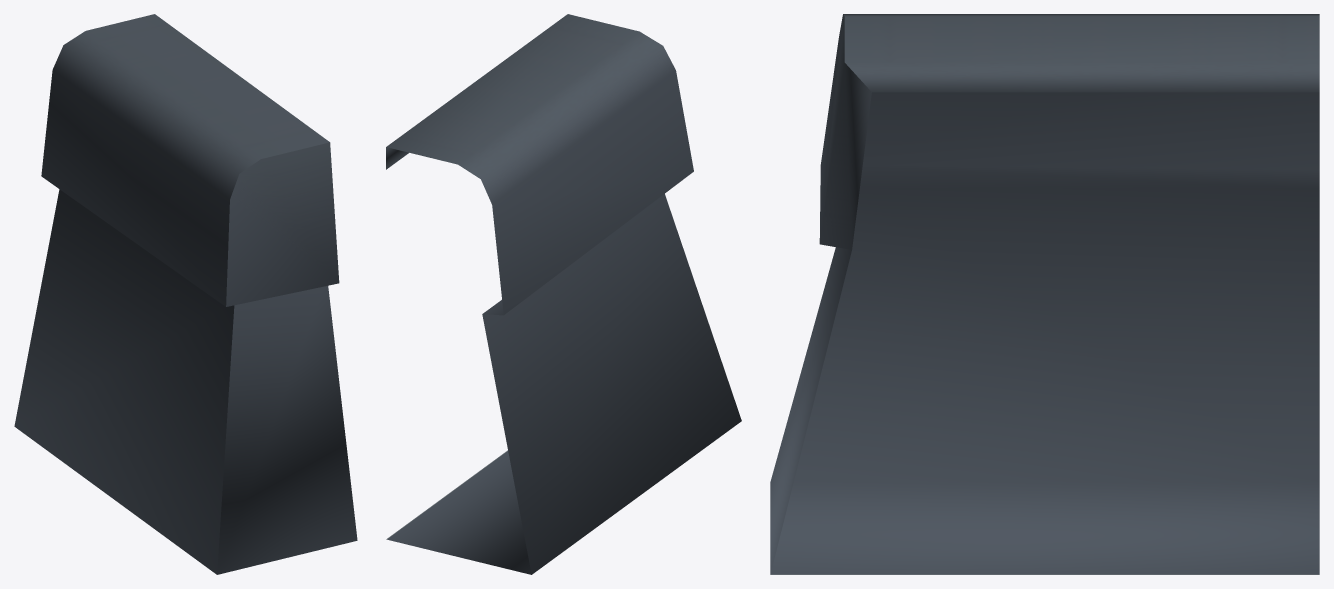
File: Wall_Endcap.fbx
3 views of the same model, side by side, from view 1: azimuth 30°, elevation 25°; view 2: azimuth 150°, elevation 25°; view 3: azimuth 270°, elevation 25° (orthographic). The views are drawn at different scales.
Visible parts, largest first — view 1: Wall_Endcap; view 2: Wall_Endcap; view 3: Wall_Endcap.
Boxes of the visible parts, x1,y1,x2,y2 form: Wall_Endcap: [14, 14, 357, 574]; Wall_Endcap: [386, 14, 741, 574]; Wall_Endcap: [770, 14, 1319, 574].
Size of the model in its own units: 0.4742 by 1.22 by 1.19.
